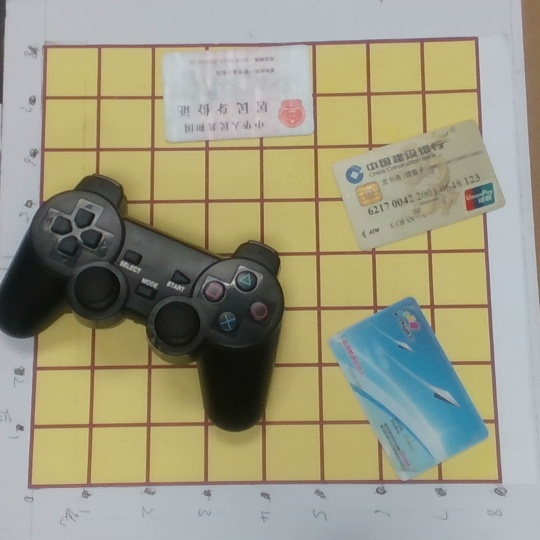card: (329, 297, 489, 482), (330, 119, 506, 247), (164, 44, 319, 138)
remote: (2, 173, 284, 440)
